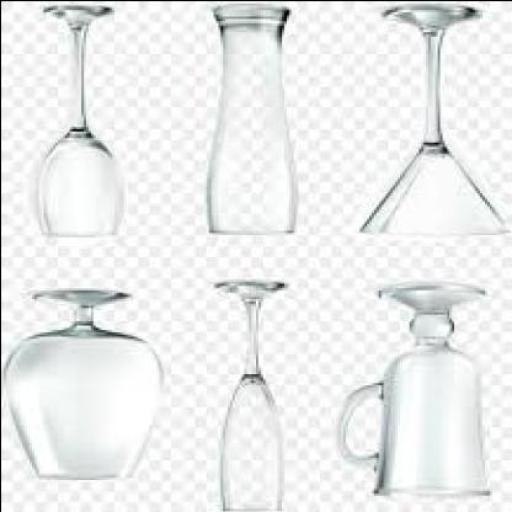glass: (357, 8, 507, 238), (333, 285, 488, 497), (1, 289, 159, 481), (30, 6, 116, 239), (203, 2, 288, 234), (214, 279, 287, 511)
